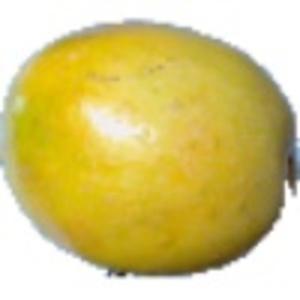maracujá: (1, 2, 300, 280)
